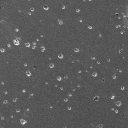corrosion: (12, 38, 21, 46), (18, 118, 28, 125), (42, 4, 50, 12), (57, 18, 65, 26), (56, 53, 65, 60), (25, 69, 32, 77), (115, 101, 123, 108), (73, 46, 80, 54), (91, 70, 98, 78), (48, 62, 55, 69), (93, 95, 100, 102), (40, 45, 46, 53), (24, 42, 31, 48), (56, 75, 62, 82), (111, 73, 117, 80), (87, 24, 93, 30), (63, 97, 69, 103), (76, 69, 82, 75), (3, 99, 9, 105), (90, 55, 96, 61), (115, 23, 121, 29), (29, 7, 36, 12), (67, 106, 72, 112), (15, 108, 21, 113), (105, 57, 111, 62), (1, 46, 5, 53), (21, 88, 26, 93), (61, 5, 66, 10), (12, 97, 17, 102), (98, 33, 103, 38), (14, 27, 19, 32), (110, 95, 115, 100), (120, 86, 125, 91), (39, 33, 44, 38), (76, 83, 81, 88), (75, 9, 81, 13), (23, 63, 28, 67), (1, 81, 5, 86), (30, 93, 34, 97)
